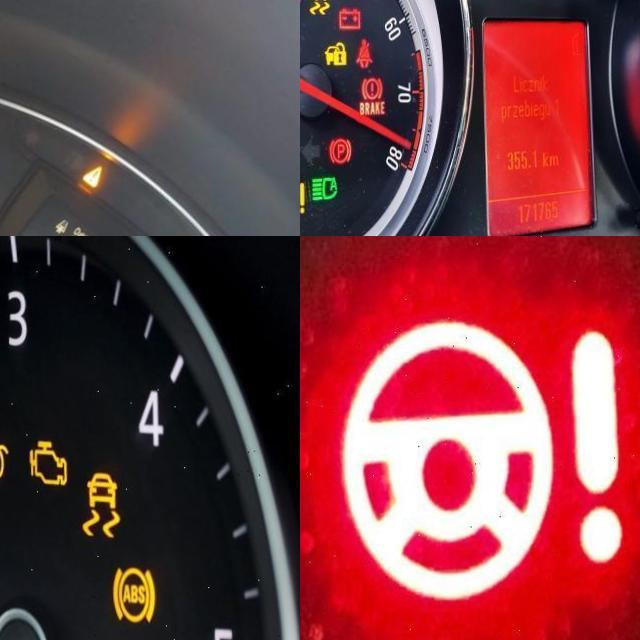Electronic Power Steering: (300, 181, 308, 216)
Electronic Power Steering Warning: (337, 313, 624, 603)
Seat Belt: (356, 40, 374, 72)
